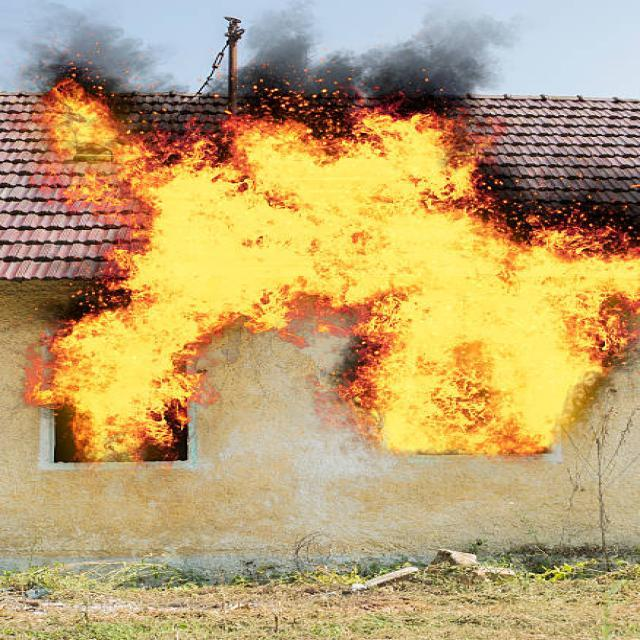Fire: (26, 78, 640, 450)
